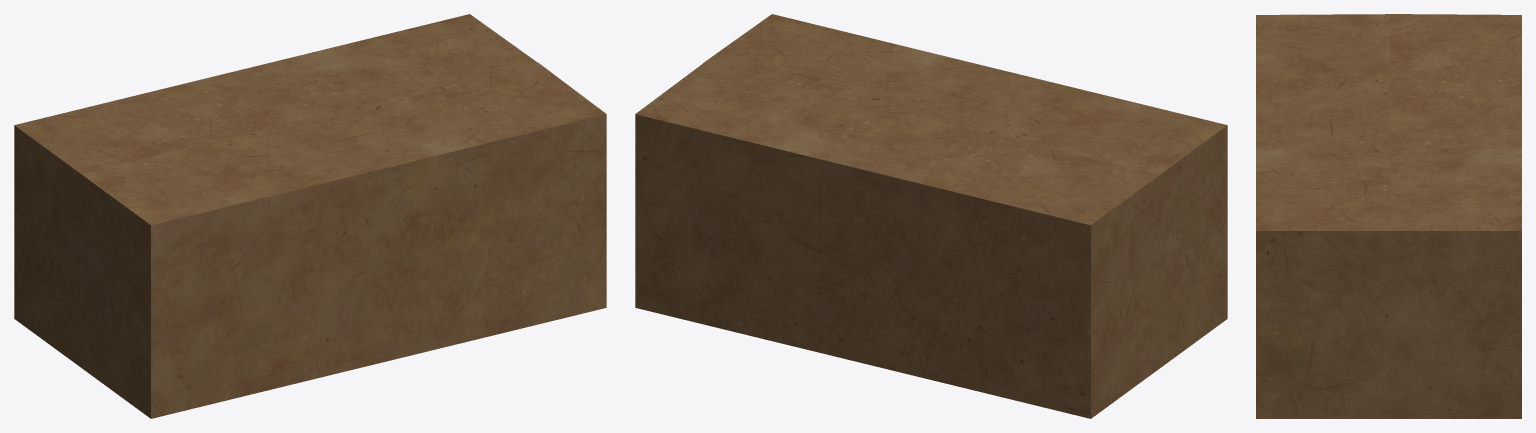
The model's file is kardus tutup.fbx.
3 renders of one model, left to right at view 1: azimuth 30°, elevation 25°; view 2: azimuth 150°, elevation 25°; view 3: azimuth 270°, elevation 25°, orthographic. The views are drawn at different scales.
Parts seen in each view (by area): view 1: Cube; view 2: Cube; view 3: Cube.
Boxes of the visible parts, x1=… form: Cube: x1=14, y1=14, x2=606, y2=418; Cube: x1=635, y1=14, x2=1227, y2=418; Cube: x1=1256, y1=14, x2=1521, y2=418.
Size of the model in its own units: 385 by 157 by 200.
